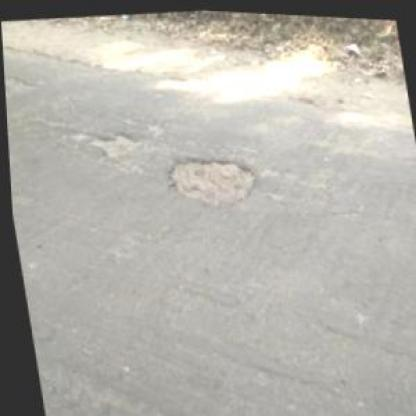pothole: (164, 146, 260, 210), (83, 126, 144, 162)
